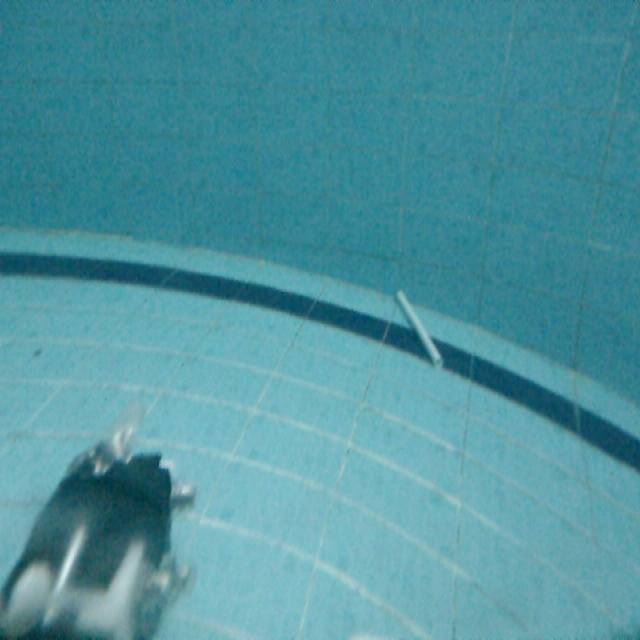Cube: (392, 286, 446, 372)
